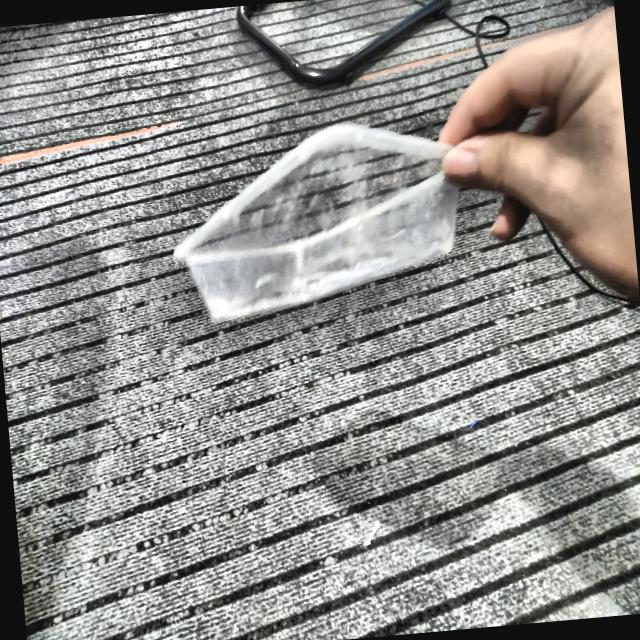plastic container: (175, 124, 458, 320)
